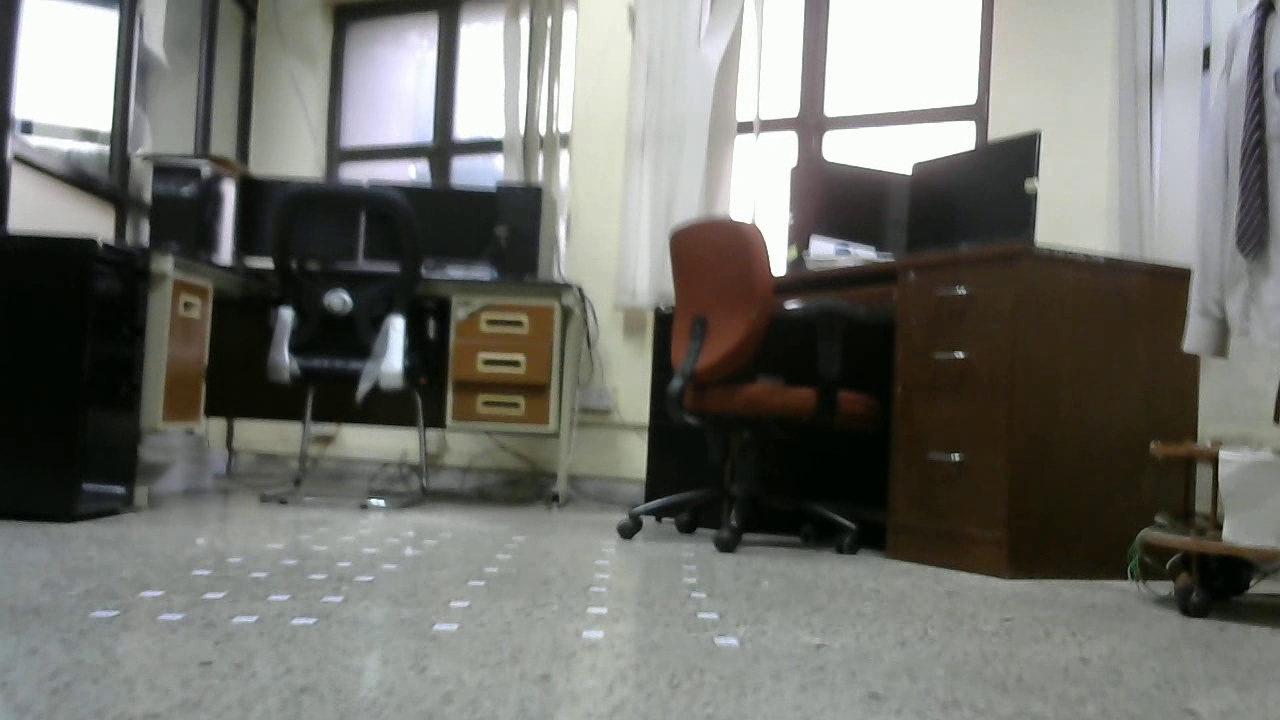chair: (615, 219, 874, 554), (259, 186, 433, 513)
